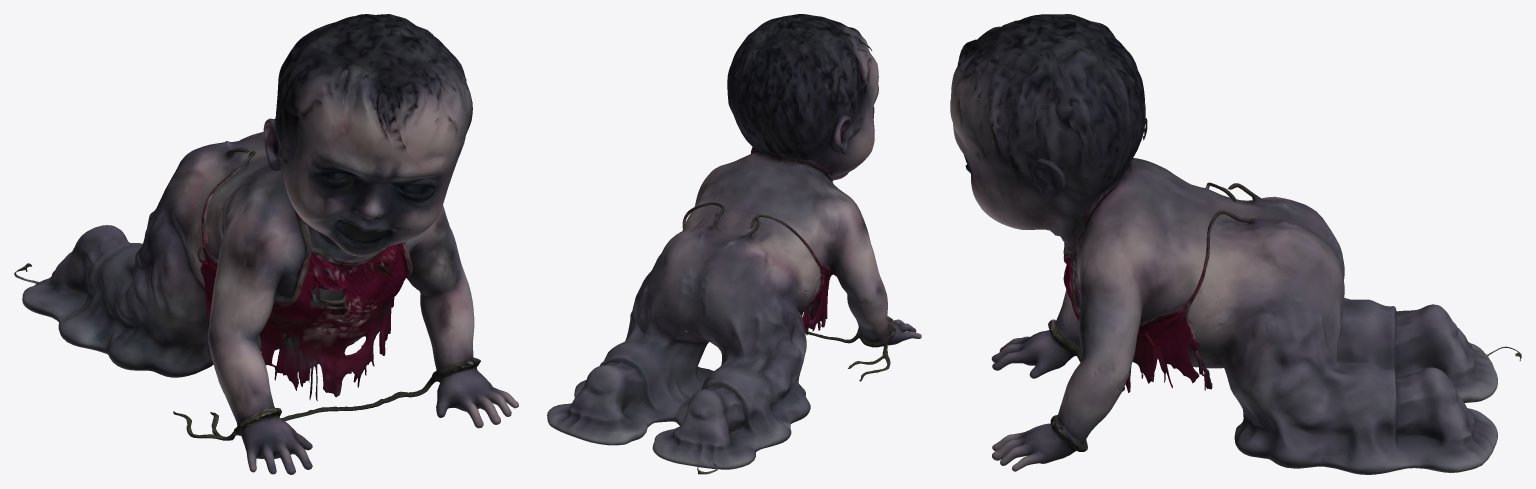
Rendered from vong-nhi.glb.
The picture shows the model from 3 angles, left to right: view 1: azimuth 30°, elevation 25°; view 2: azimuth 150°, elevation 25°; view 3: azimuth 270°, elevation 25°; orthographic projection. The views are drawn at different scales.
Bounding box in the file's own units: 0.5481 × 0.7509 × 0.9915.
